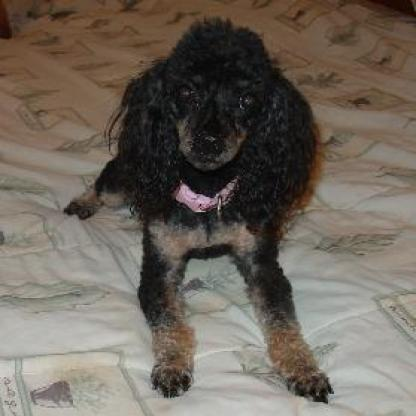miniature_poodle: (64, 14, 342, 403)
